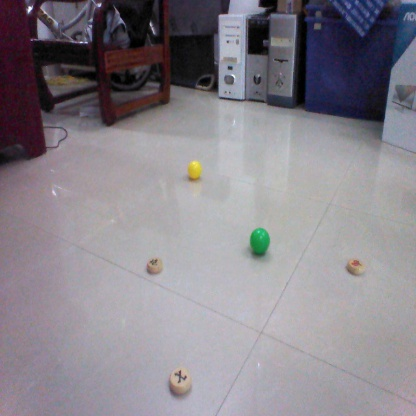ball: (249, 226, 273, 254), (185, 161, 204, 179)
chess: (167, 367, 194, 395), (346, 258, 368, 276), (144, 255, 163, 274)
